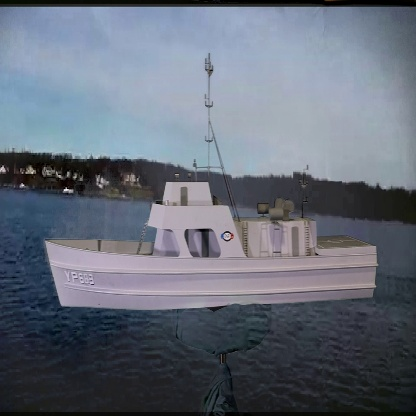YP689: (43, 53, 380, 314)
